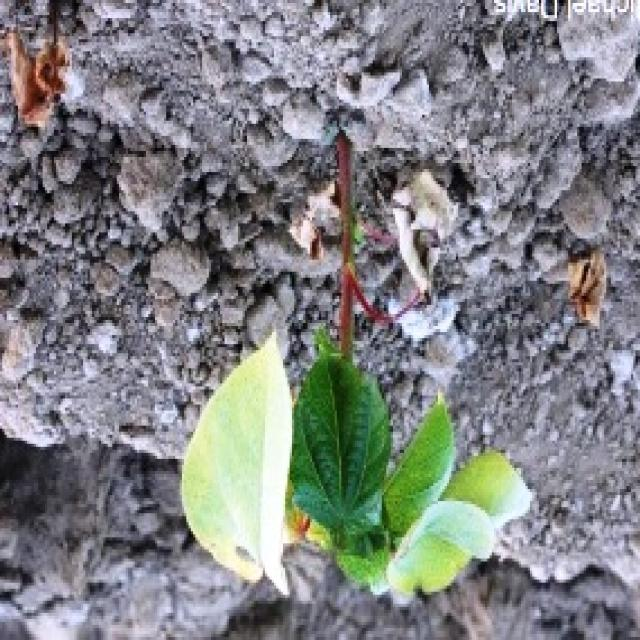Fusarium Wilt: (180, 128, 540, 626)
